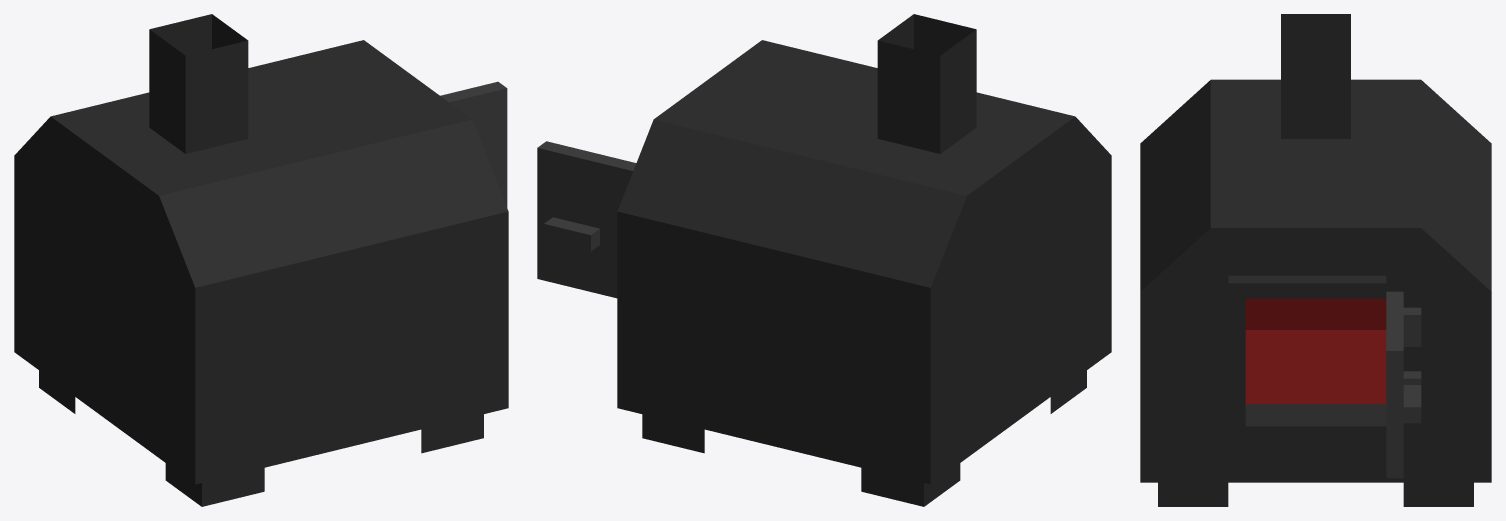
Rendered from potteryoven.obj.
3 renders of one model, left to right at view 1: azimuth 30°, elevation 25°; view 2: azimuth 150°, elevation 25°; view 3: azimuth 270°, elevation 25°, orthographic. The views are drawn at different scales.
Visible parts, largest first — view 1: potteryoven_back; view 2: potteryoven_back; view 3: potteryoven_back.
Part boxes in pixels (bbox=[...]): potteryoven_back: bbox=[14, 14, 508, 506]; potteryoven_back: bbox=[537, 14, 1111, 506]; potteryoven_back: bbox=[1140, 14, 1491, 506].
Bounding box in the file's own units: 2.24 × 1.92 × 1.6.
